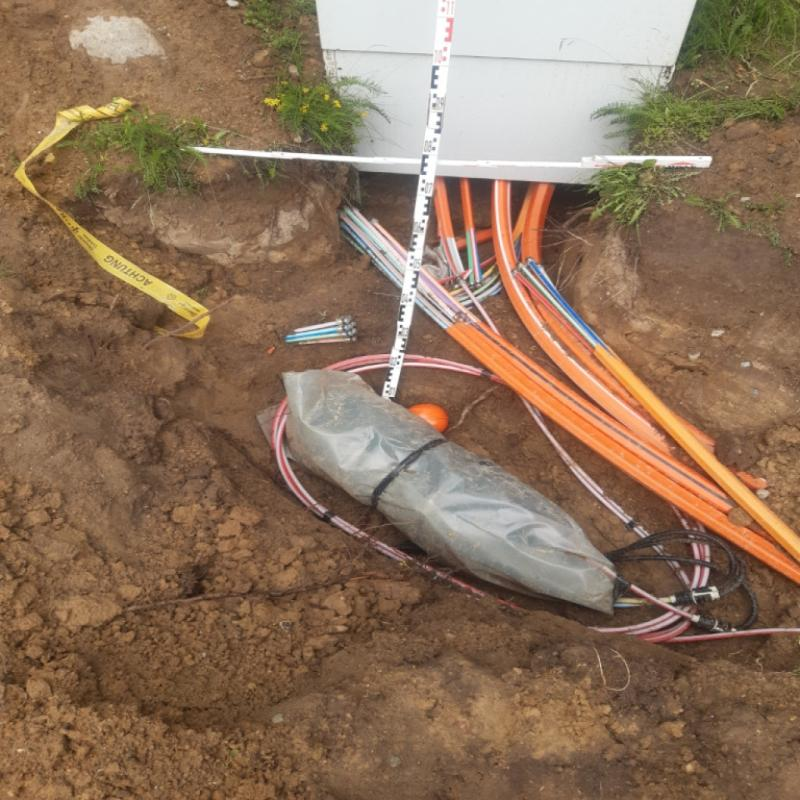NT-Muffen: (247, 367, 622, 607)
